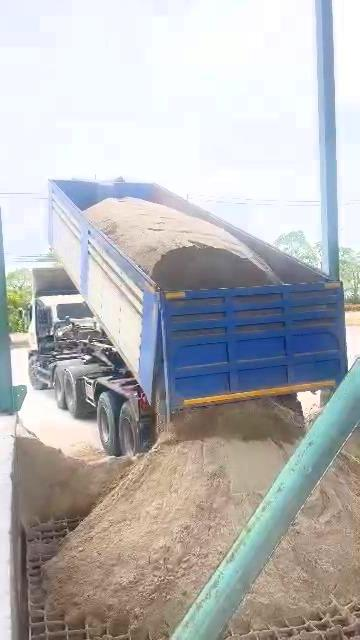sand: (46, 401, 302, 639), (232, 454, 360, 632), (85, 198, 279, 289), (16, 428, 131, 525), (27, 430, 106, 467), (306, 394, 325, 427), (345, 423, 360, 459)
